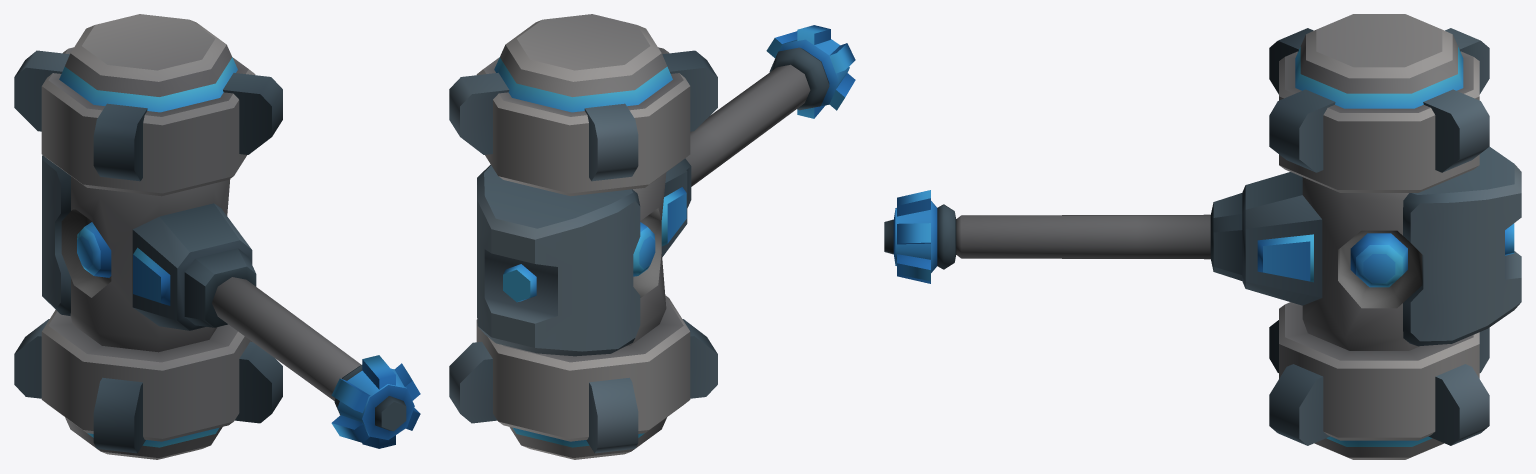
The model's file is Melee_MightySledge.fbx.
3 views of the same model, side by side, from view 1: azimuth 30°, elevation 25°; view 2: azimuth 150°, elevation 25°; view 3: azimuth 270°, elevation 25° (orthographic).
Parts seen in each view (by area): view 1: Melee_MightySledge; view 2: Melee_MightySledge; view 3: Melee_MightySledge.
Boxes of the visible parts, x1,y1,x2,y2 form: Melee_MightySledge: (14, 14, 420, 459); Melee_MightySledge: (449, 14, 855, 459); Melee_MightySledge: (884, 14, 1521, 459).
Bounding box in the file's own units: 0.3767 × 0.741 × 1.09.
